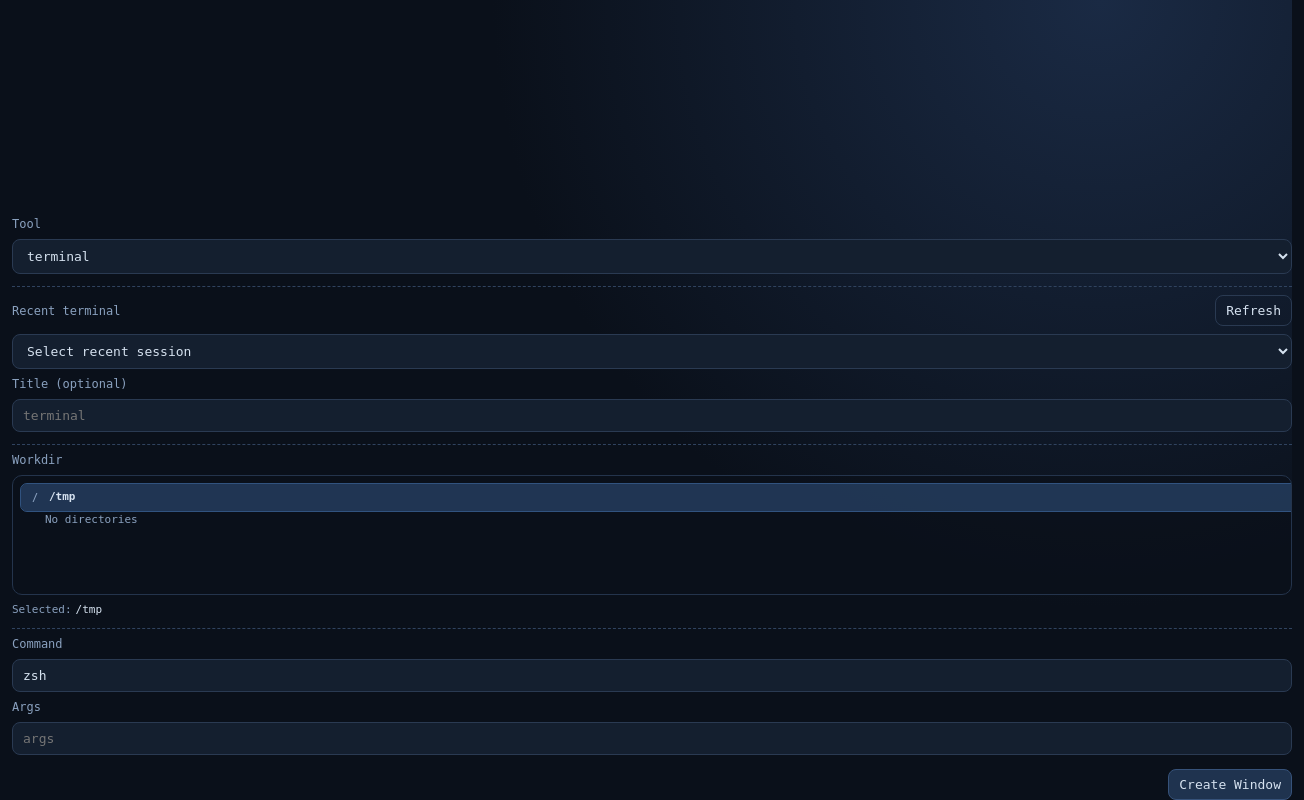
Test: NewSessionForm recent + ssh title › shows ssh title first and falls back to connection info
Select "ssh" in the dropdown with id "new-session-tool". click: (652, 256)
box: x1=12 y1=239 x2=1292 y2=274
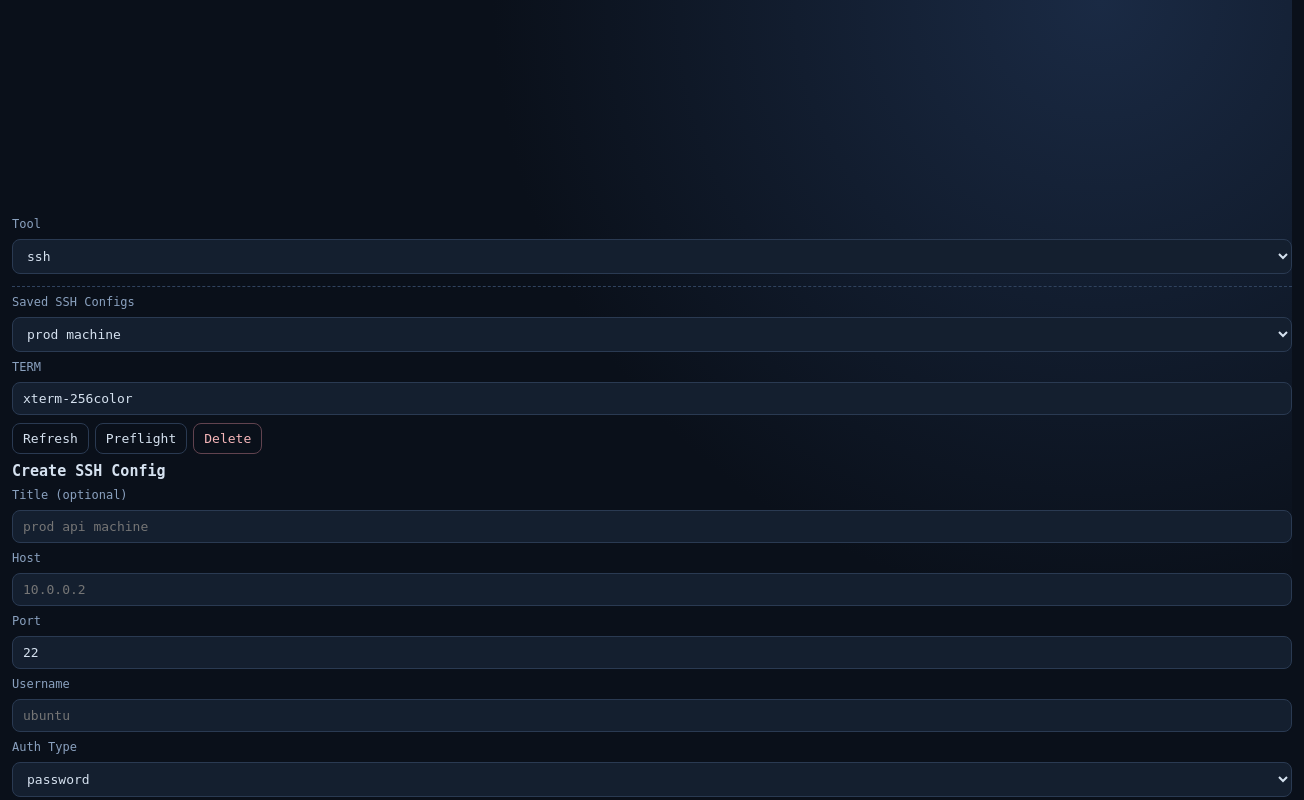
Check: the label with id "new-session-recent" is gone
Check: the label with id "new-session-title" is gone
Check: the field with id "new-ssh-title" is shown, box x1=12 y1=510 x2=1292 y2=543
